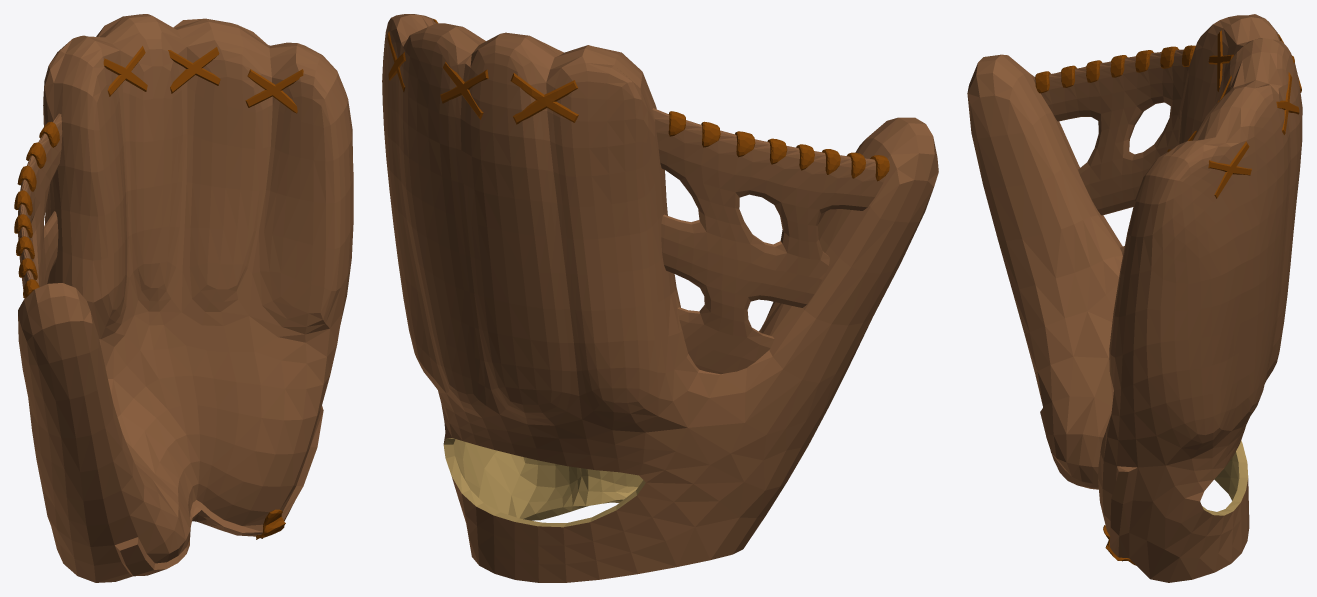
The model's file is baseball_glove.obj.
The picture shows the model from 3 angles, left to right: view 1: azimuth 30°, elevation 25°; view 2: azimuth 150°, elevation 25°; view 3: azimuth 270°, elevation 25°; orthographic projection. The views are drawn at different scales.
Visible parts, largest first — view 1: bglove_exterior, bglove_stitches; view 2: bglove_exterior, bglove_interior, bglove_stitches; view 3: bglove_exterior, bglove_stitches, bglove_interior.
Part boxes in pixels (bbox=[...]): bglove_exterior: bbox=[18, 14, 353, 582]; bglove_stitches: bbox=[14, 46, 303, 539]; bglove_exterior: bbox=[382, 14, 938, 582]; bglove_interior: bbox=[443, 438, 645, 527]; bglove_stitches: bbox=[387, 19, 889, 181]; bglove_exterior: bbox=[967, 14, 1302, 582]; bglove_stitches: bbox=[1035, 30, 1301, 565]; bglove_interior: bbox=[1202, 440, 1248, 515].
Bounding box in the file's own units: 0.1474 × 0.1747 × 0.1052.
